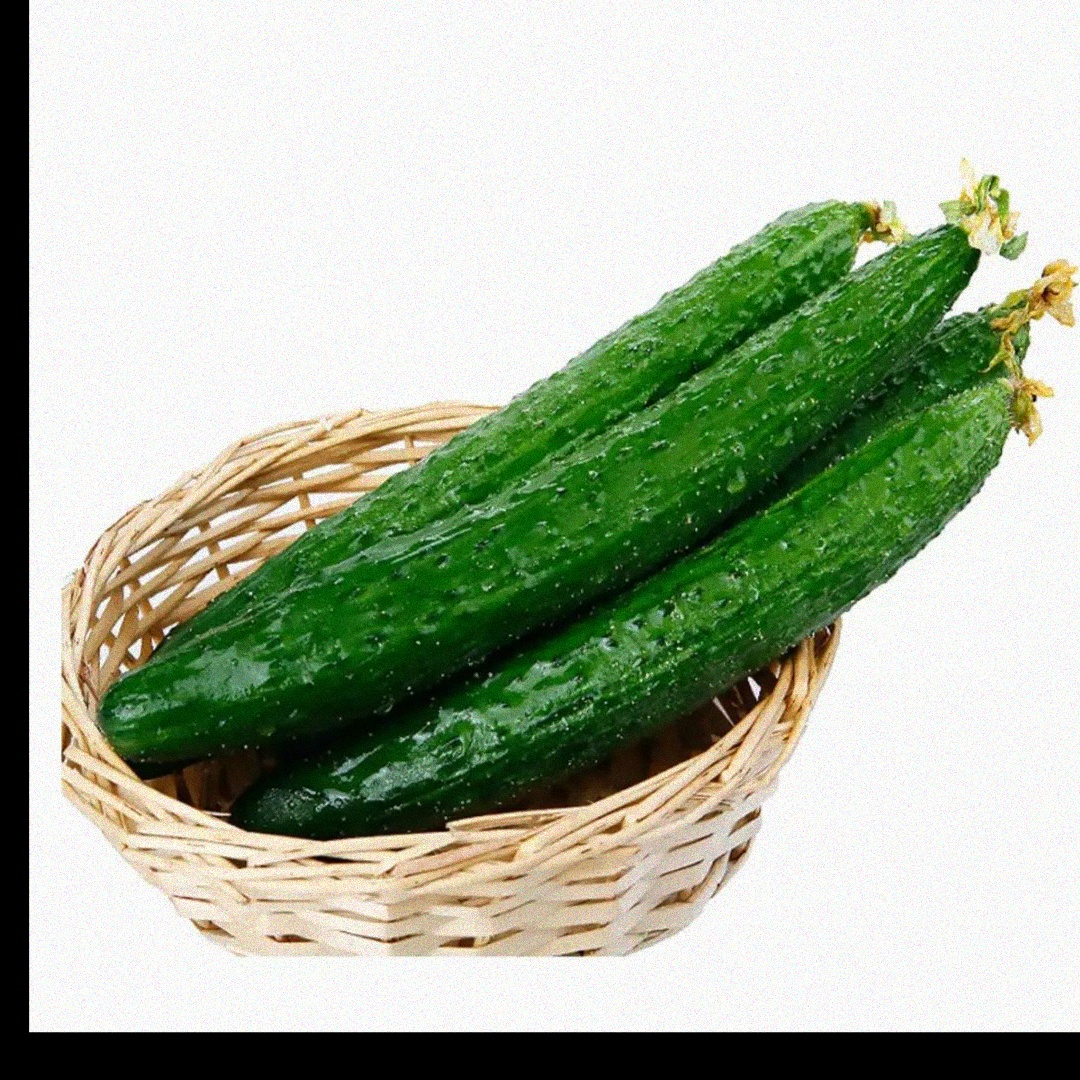cucumber: (121, 227, 983, 757), (278, 387, 1013, 861)
